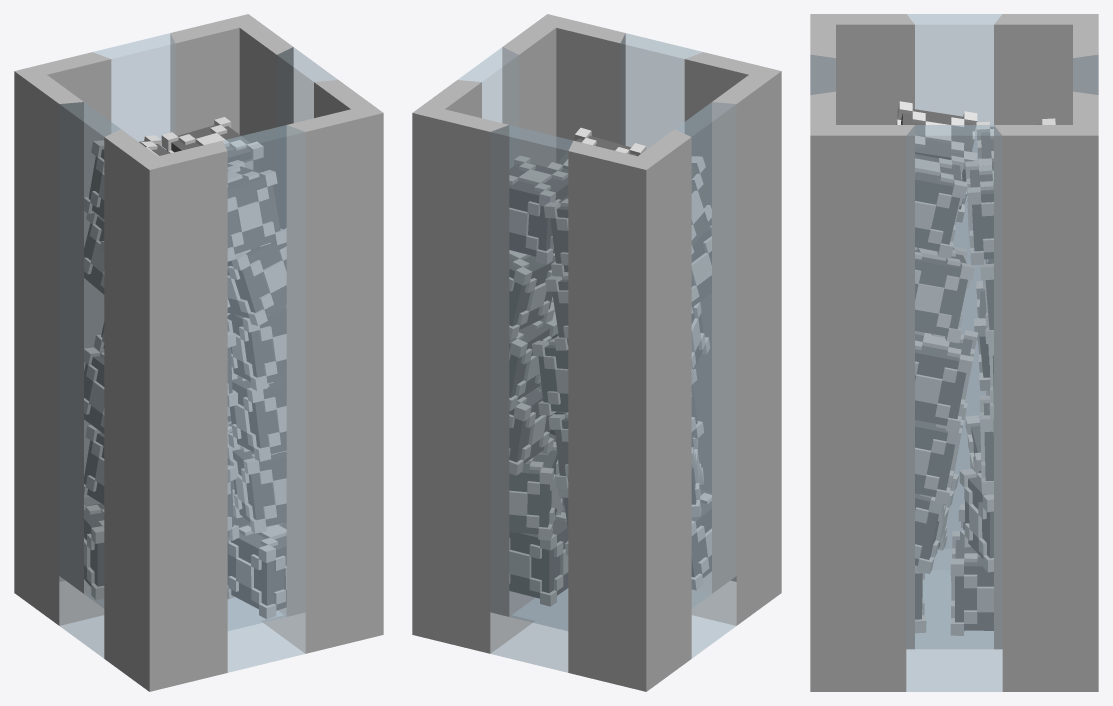
File: BlockBunch2.fbx
The picture shows the model from 3 angles, left to right: view 1: azimuth 30°, elevation 25°; view 2: azimuth 150°, elevation 25°; view 3: azimuth 270°, elevation 25°; orthographic projection. The views are drawn at different scales.
Parts seen in each view (by area): view 1: Cube.001, Cube.002, Cube.022, Cube.018, Cube.006, Cube.010, Cube.014, Cube.021, Cube.003, Cube.011, Cube.023, Cube.007 (+2 smaller); view 2: Cube.001, Cube.021, Cube, Cube.005, Cube.017, Cube.009, Cube.013, Cube.015, Cube.004, Cube.024, Cube.023, Cube.020 (+5 smaller); view 3: Cube.001, Cube.014, Cube.018, Cube.022, Cube, Cube.024, Cube.010, Cube.021, Cube.005, Cube.006, Cube.009, Cube.015 (+4 smaller).
Part boxes in pixels (<box>): Cube.001: <box>14,14,383,691</box>; Cube.002: <box>227,523,286,618</box>; Cube.022: <box>227,160,286,261</box>; Cube.018: <box>227,228,286,325</box>; Cube.006: <box>227,444,286,533</box>; Cube.010: <box>228,375,286,461</box>; Cube.014: <box>227,305,286,390</box>; Cube.021: <box>161,117,263,171</box>; Cube.003: <box>84,503,104,599</box>; Cube.011: <box>84,347,104,433</box>; Cube.023: <box>84,135,169,218</box>; Cube.007: <box>84,425,104,504</box>; Cube.001: <box>412,14,781,691</box>; Cube.021: <box>509,155,568,264</box>; Cube: <box>509,511,568,606</box>; Cube.005: <box>509,442,562,540</box>; Cube.017: <box>509,250,555,339</box>; Cube.009: <box>509,388,553,475</box>; Cube.013: <box>509,319,558,410</box>; Cube.015: <box>532,335,568,415</box>; Cube.004: <box>691,489,711,590</box>; Cube.024: <box>691,156,711,254</box>; Cube.023: <box>544,196,568,276</box>; Cube.020: <box>691,225,711,313</box>; Cube.001: <box>810,14,1098,691</box>; Cube.014: <box>915,330,977,433</box>; Cube.018: <box>915,247,974,343</box>; Cube.022: <box>915,154,967,258</box>; Cube: <box>950,530,993,635</box>; Cube.024: <box>896,101,977,222</box>; Cube.010: <box>915,403,967,504</box>; Cube.021: <box>965,161,993,265</box>; Cube.005: <box>959,468,993,572</box>; Cube.006: <box>915,473,959,573</box>; Cube.009: <box>979,395,993,494</box>; Cube.015: <box>974,281,990,390</box>.
Bounding box in the file's own units: 730 × 1554 × 730.
